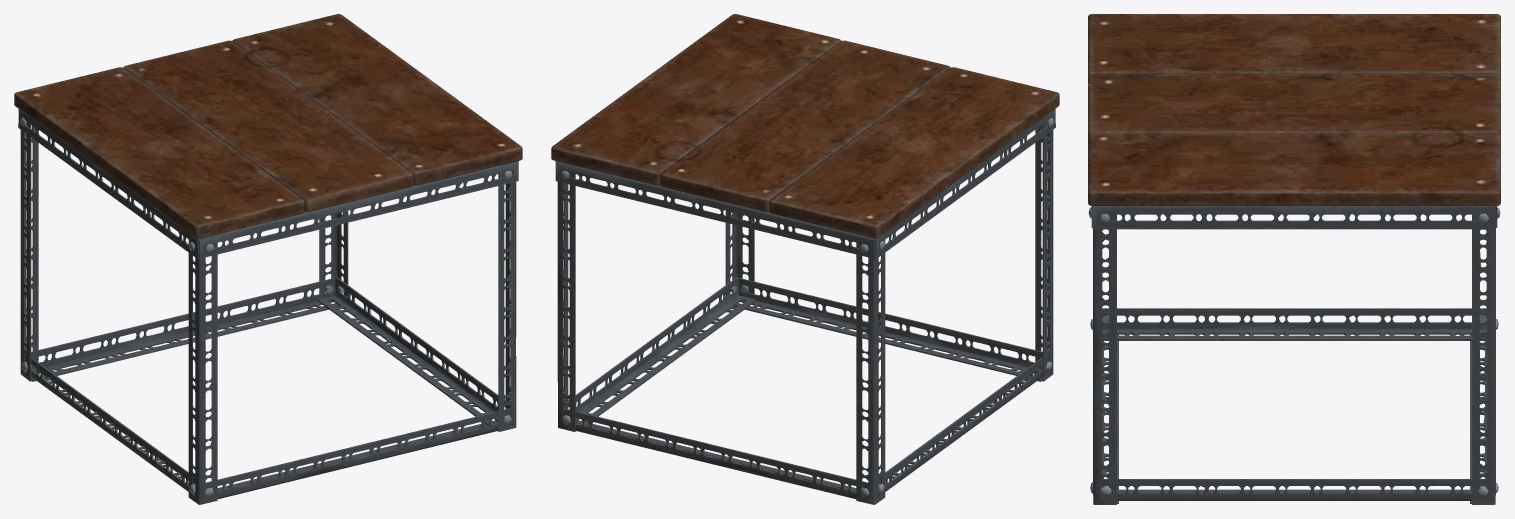
File: ph-industrial_coffee_table.glb
3 views of the same model, side by side, from view 1: azimuth 30°, elevation 25°; view 2: azimuth 150°, elevation 25°; view 3: azimuth 270°, elevation 25° (orthographic). The views are drawn at different scales.
Visible parts, largest first — view 1: industrial_coffee_table; view 2: industrial_coffee_table; view 3: industrial_coffee_table.
Boxes of the visible parts, x1,y1,x2,y2 form: industrial_coffee_table: [14, 14, 522, 504]; industrial_coffee_table: [551, 14, 1059, 504]; industrial_coffee_table: [1088, 14, 1500, 504].
Size of the model in its own units: 1 by 0.8203 by 0.9739.
1 material, 1 textured.
